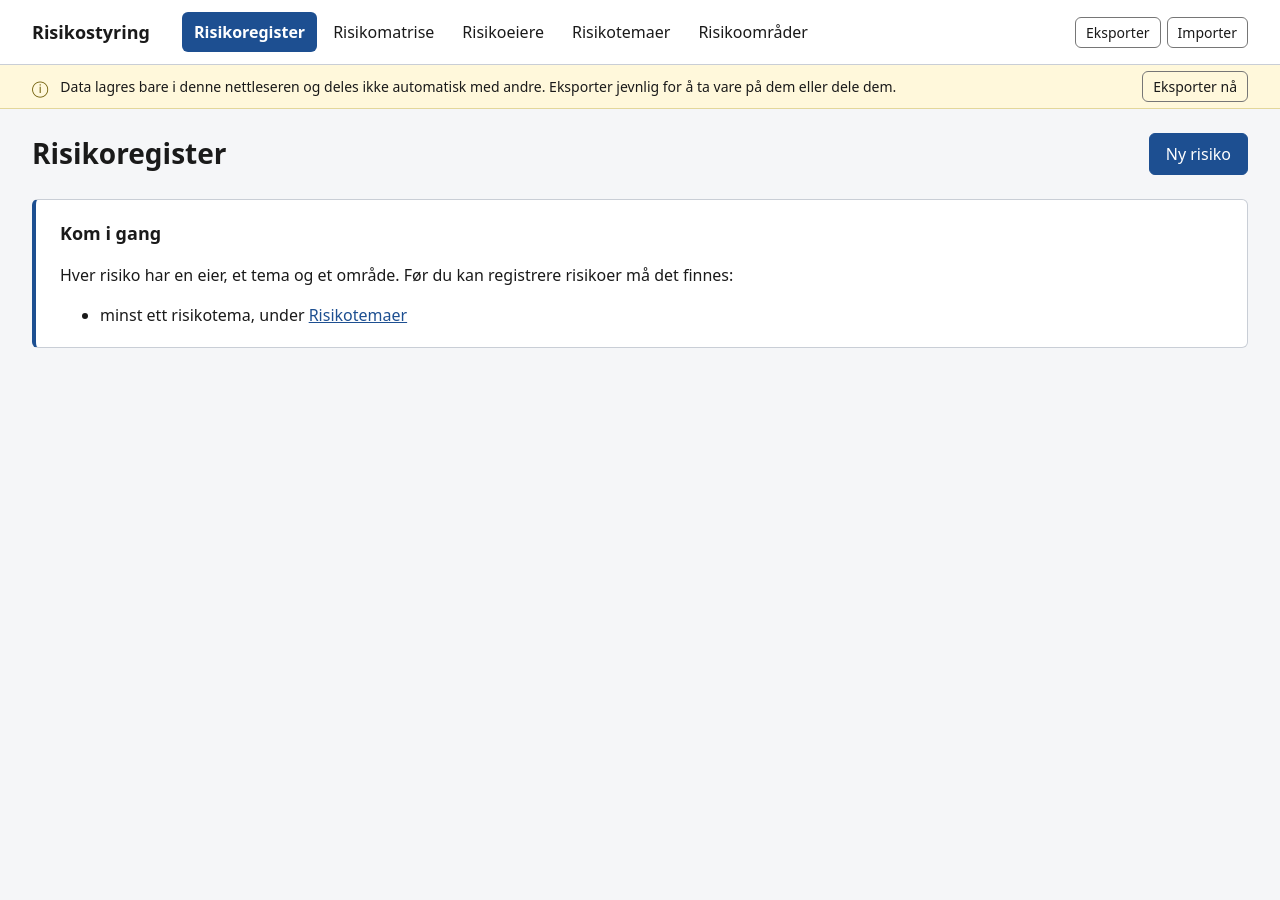
Scenario: veiledning før første risiko (K22) › viser alltid «Ny risiko», og forklarer hva som mangler i stedet for å åpne skjemaet
This screenshot has width=1280, height=900.
expect the heading "Risikoregister" is shown: met, box [32,137,226,171]
Click the button "Ny risiko": (1198, 154) [1149,133,1248,175]
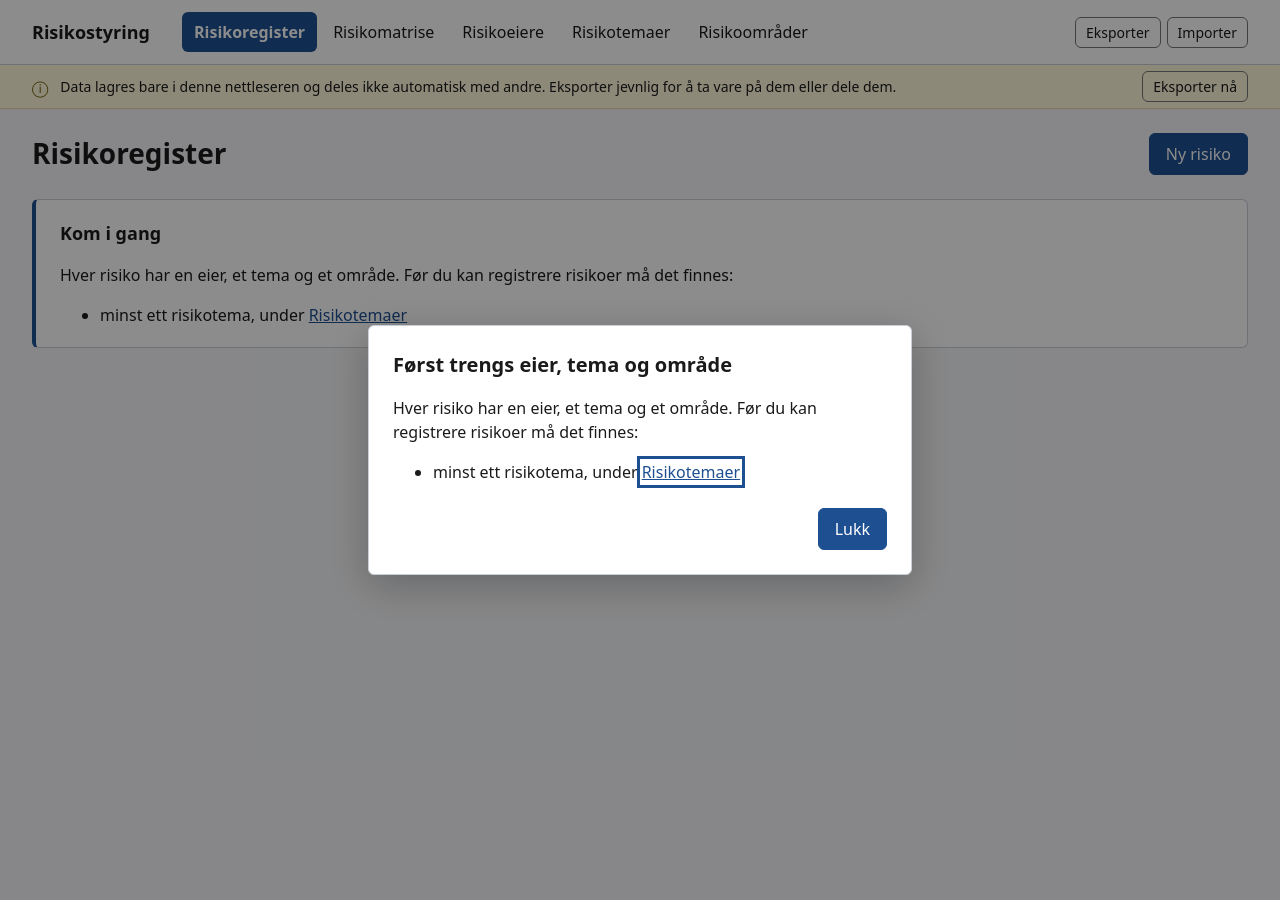
expect the list items read "minst ett risikotema, under Risikotemaer", in this order: met, box [433,461,740,483]
Click the link "Risikotemaer": (691, 472) [642,461,740,483]
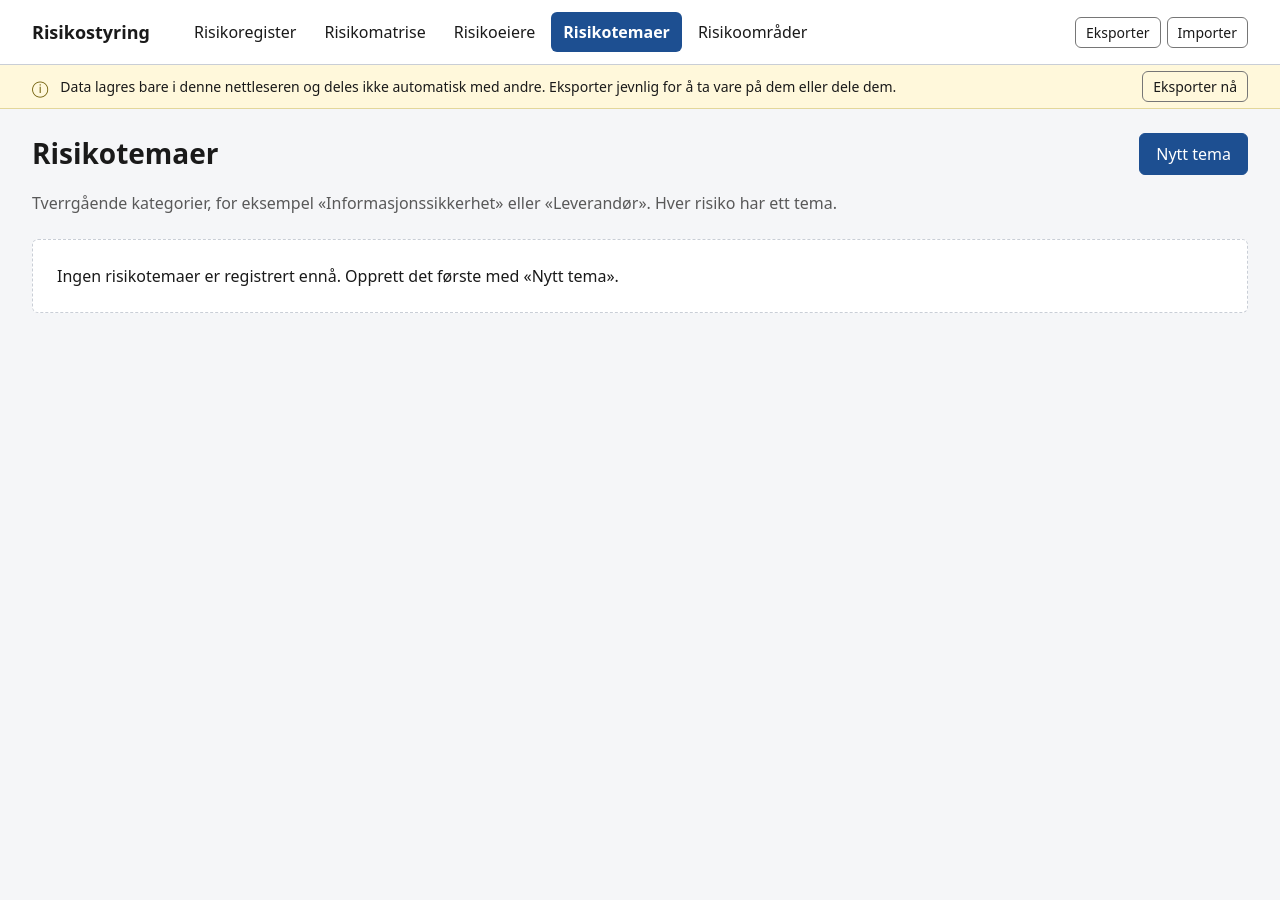
expect the heading "Risikotemaer" is shown: met, box [32,137,218,171]
expect the dialog is gone: met
